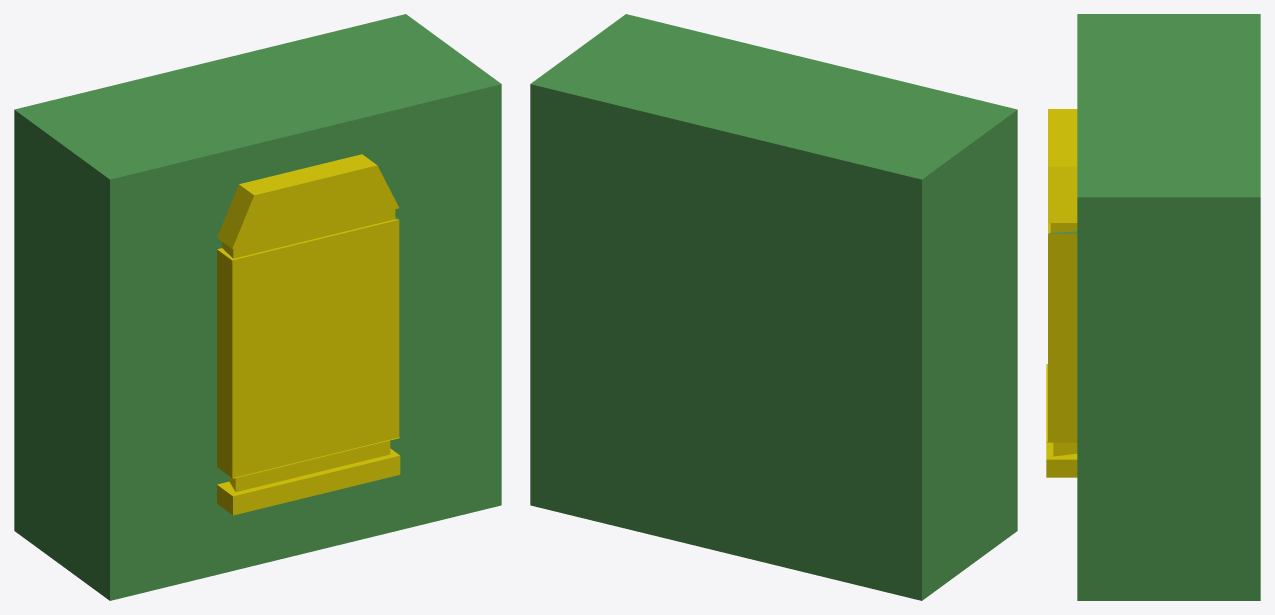
Rendered from Ammo.fbx.
3 renders of one model, left to right at view 1: azimuth 30°, elevation 25°; view 2: azimuth 150°, elevation 25°; view 3: azimuth 270°, elevation 25°, orthographic. The views are drawn at different scales.
Parts seen in each view (by area): view 1: pCube1; view 2: pCube1; view 3: pCube1.
Boxes of the visible parts, <box> form: pCube1: <box>14,14,501,600</box>; pCube1: <box>530,14,1017,600</box>; pCube1: <box>1046,14,1260,600</box>.
Bounding box in the file's own units: 2.77 × 2.85 × 1.37.
